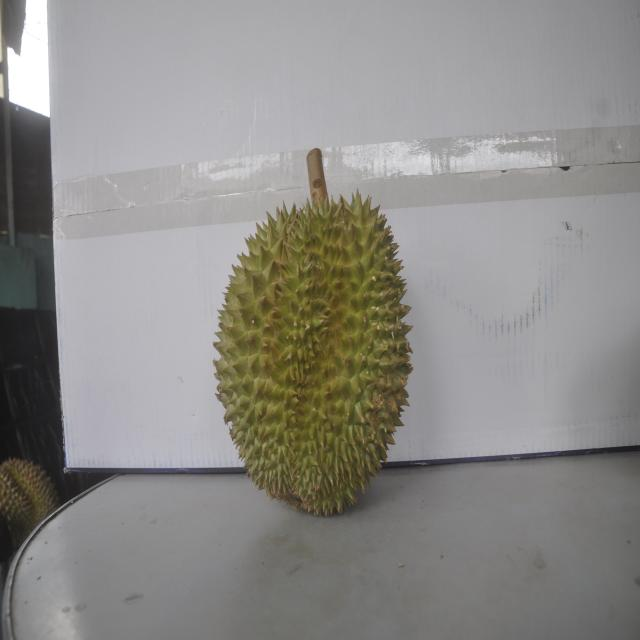mature: (214, 176, 416, 516), (1, 458, 60, 550)
